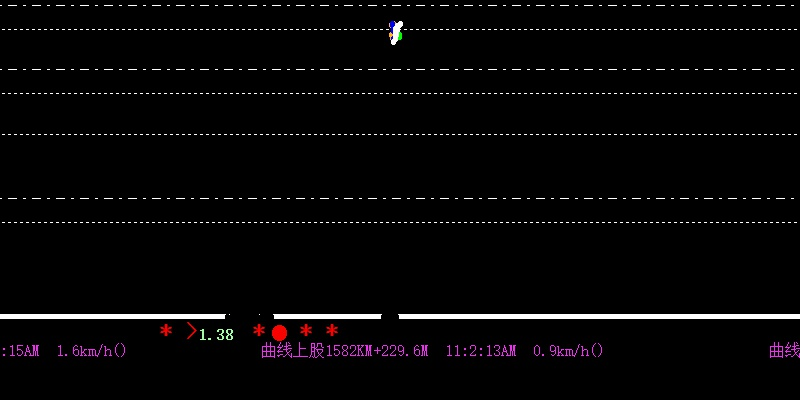circle: (272, 320, 290, 344)
face_2: (388, 16, 402, 47)
star: (298, 321, 314, 340), (157, 321, 173, 340), (251, 323, 267, 341), (324, 321, 340, 338)
